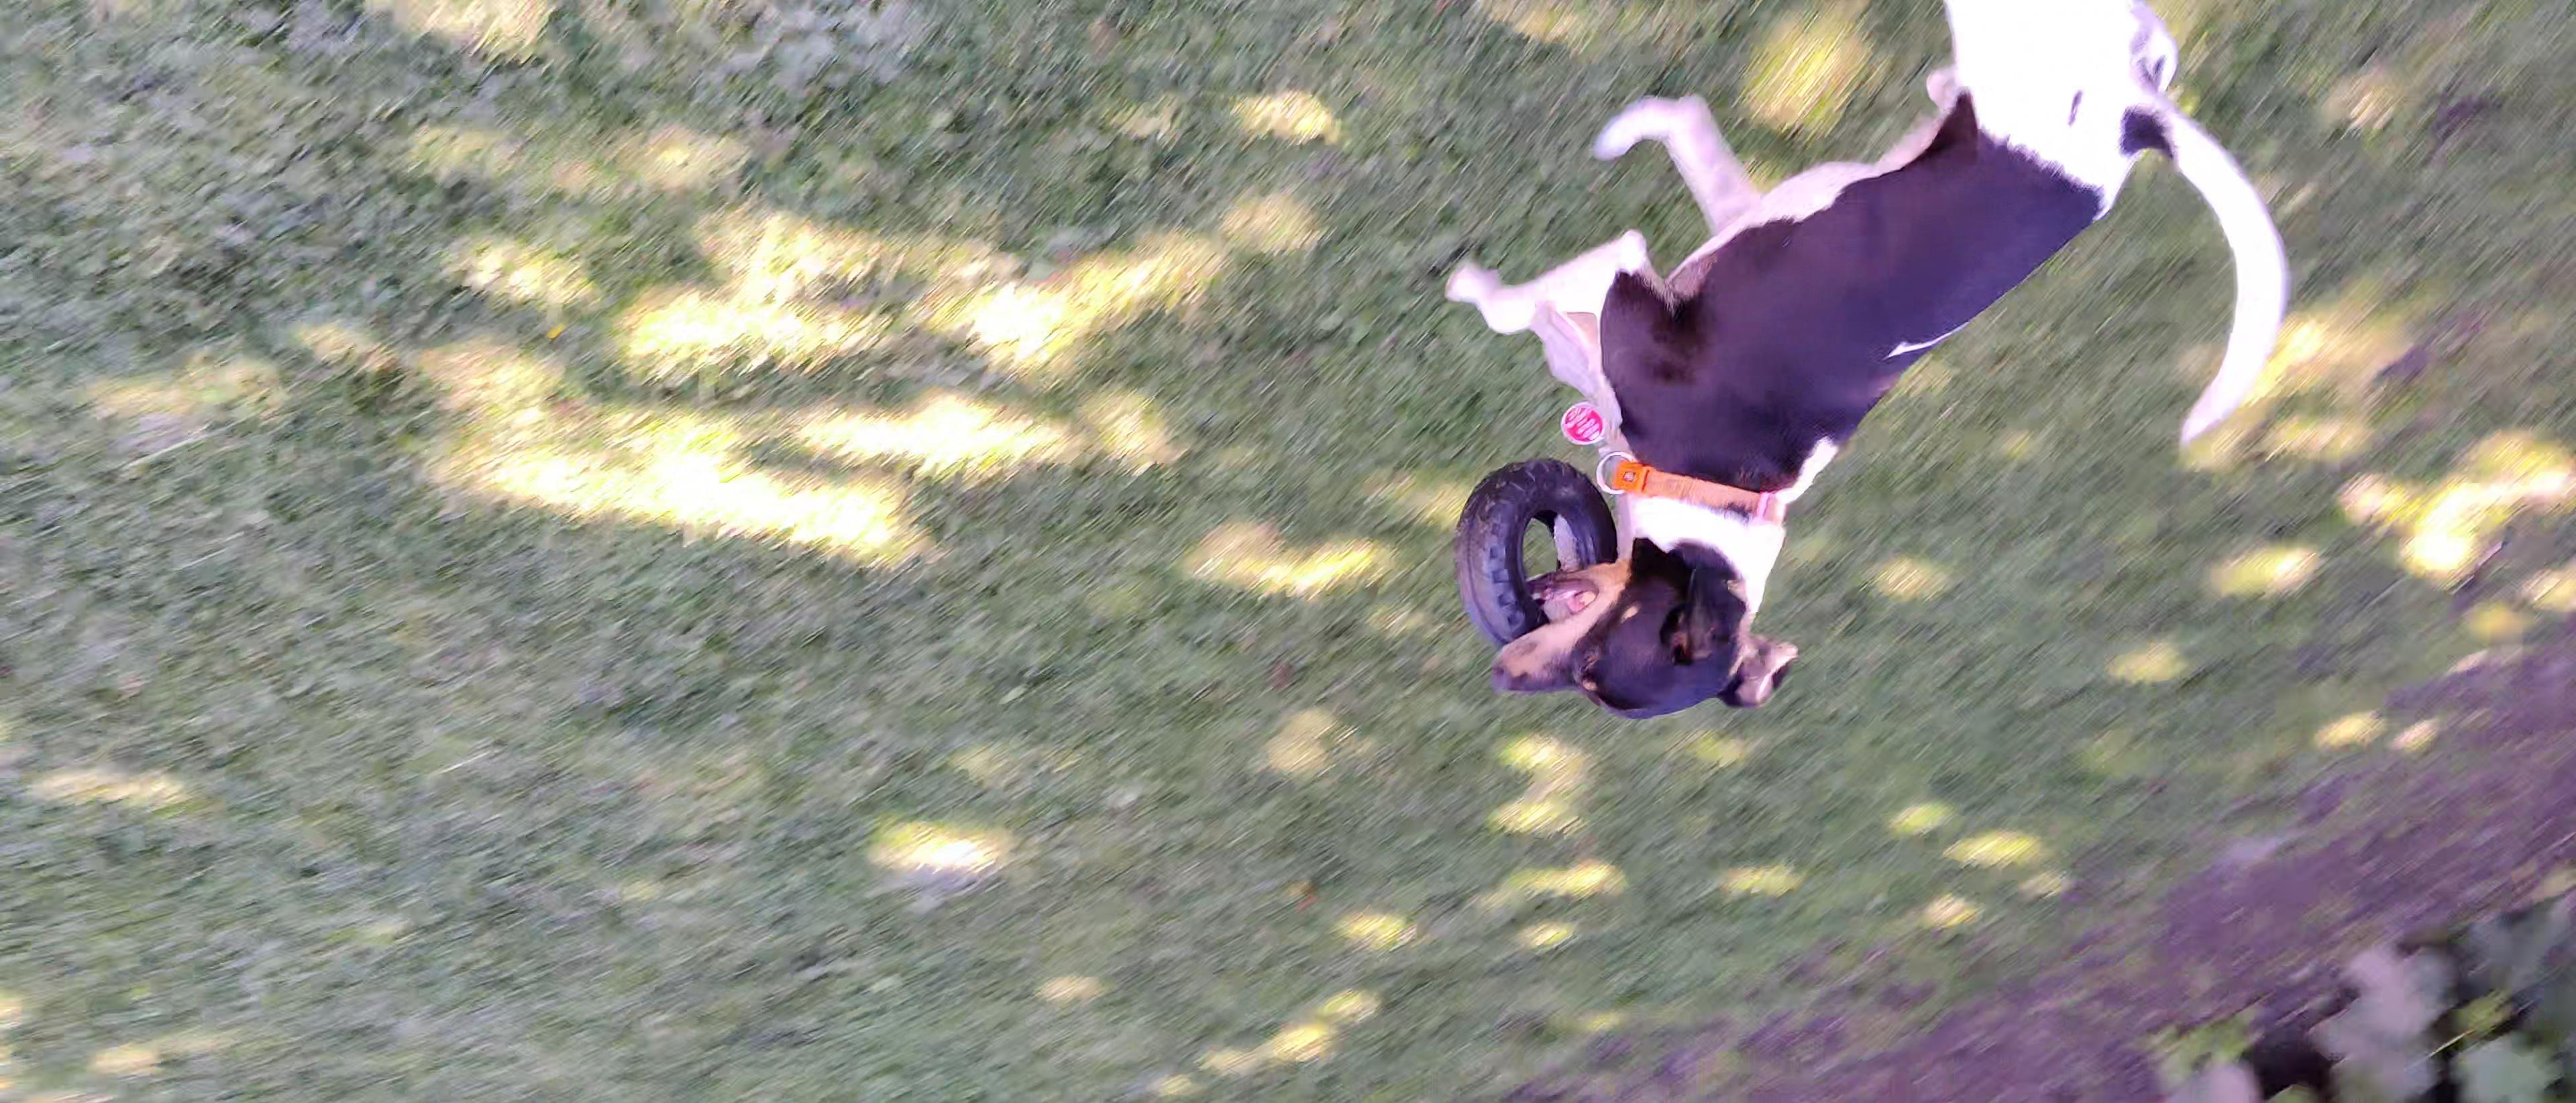Dog: (1413, 0, 2326, 728)
